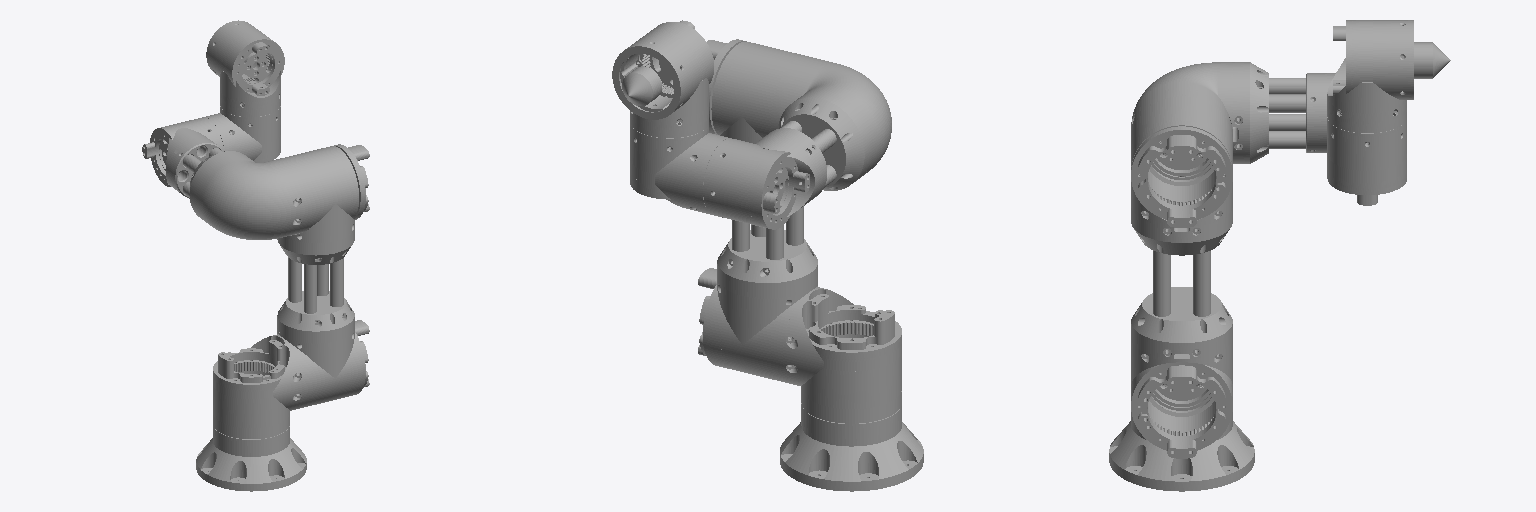
robot.urdf — URDF:
<?xml version="1.0" ?>
<!-- =================================================================================== -->
<!-- |    This document was autogenerated by xacro from robot.xacro                    | -->
<!-- |    EDITING THIS FILE BY HAND IS NOT RECOMMENDED                                 | -->
<!-- =================================================================================== -->
<robot name="URDF">
  <material name="silver">
    <color rgba="0.700 0.700 0.700 1.000"/>
  </material>
  <transmission name="Revolute 1_tran">
    <type>transmission_interface/SimpleTransmission</type>
    <joint name="Revolute 1">
      <hardwareInterface>hardware_interface/EffortJointInterface</hardwareInterface>
    </joint>
    <actuator name="Revolute 1_actr">
      <hardwareInterface>hardware_interface/EffortJointInterface</hardwareInterface>
      <mechanicalReduction>1</mechanicalReduction>
    </actuator>
  </transmission>
  <transmission name="Revolute 2_tran">
    <type>transmission_interface/SimpleTransmission</type>
    <joint name="Revolute 2">
      <hardwareInterface>hardware_interface/EffortJointInterface</hardwareInterface>
    </joint>
    <actuator name="Revolute 2_actr">
      <hardwareInterface>hardware_interface/EffortJointInterface</hardwareInterface>
      <mechanicalReduction>1</mechanicalReduction>
    </actuator>
  </transmission>
  <transmission name="Revolute 3_tran">
    <type>transmission_interface/SimpleTransmission</type>
    <joint name="Revolute 3">
      <hardwareInterface>hardware_interface/EffortJointInterface</hardwareInterface>
    </joint>
    <actuator name="Revolute 3_actr">
      <hardwareInterface>hardware_interface/EffortJointInterface</hardwareInterface>
      <mechanicalReduction>1</mechanicalReduction>
    </actuator>
  </transmission>
  <transmission name="Revolute 4_tran">
    <type>transmission_interface/SimpleTransmission</type>
    <joint name="Revolute 4">
      <hardwareInterface>hardware_interface/EffortJointInterface</hardwareInterface>
    </joint>
    <actuator name="Revolute 4_actr">
      <hardwareInterface>hardware_interface/EffortJointInterface</hardwareInterface>
      <mechanicalReduction>1</mechanicalReduction>
    </actuator>
  </transmission>
  <transmission name="Revolute 5_tran">
    <type>transmission_interface/SimpleTransmission</type>
    <joint name="Revolute 5">
      <hardwareInterface>hardware_interface/EffortJointInterface</hardwareInterface>
    </joint>
    <actuator name="Revolute 5_actr">
      <hardwareInterface>hardware_interface/EffortJointInterface</hardwareInterface>
      <mechanicalReduction>1</mechanicalReduction>
    </actuator>
  </transmission>
  <transmission name="Revolute 6_tran">
    <type>transmission_interface/SimpleTransmission</type>
    <joint name="Revolute 6">
      <hardwareInterface>hardware_interface/EffortJointInterface</hardwareInterface>
    </joint>
    <actuator name="Revolute 6_actr">
      <hardwareInterface>hardware_interface/EffortJointInterface</hardwareInterface>
      <mechanicalReduction>1</mechanicalReduction>
    </actuator>
  </transmission>
  <gazebo>
    <plugin filename="libgazebo_ros_control.so" name="control"/>
  </gazebo>
  <gazebo reference="base_link">
    <material>Gazebo/Silver</material>
    <mu1>0.2</mu1>
    <mu2>0.2</mu2>
    <selfCollide>true</selfCollide>
    <gravity>true</gravity>
  </gazebo>
  <gazebo reference="Link_0_1">
    <material>Gazebo/Silver</material>
    <mu1>0.2</mu1>
    <mu2>0.2</mu2>
    <selfCollide>true</selfCollide>
  </gazebo>
  <gazebo reference="Link_1_1">
    <material>Gazebo/Silver</material>
    <mu1>0.2</mu1>
    <mu2>0.2</mu2>
    <selfCollide>true</selfCollide>
  </gazebo>
  <gazebo reference="Link_2_1">
    <material>Gazebo/Silver</material>
    <mu1>0.2</mu1>
    <mu2>0.2</mu2>
    <selfCollide>true</selfCollide>
  </gazebo>
  <gazebo reference="Link_3_1">
    <material>Gazebo/Silver</material>
    <mu1>0.2</mu1>
    <mu2>0.2</mu2>
    <selfCollide>true</selfCollide>
  </gazebo>
  <gazebo reference="Link_4_1">
    <material>Gazebo/Silver</material>
    <mu1>0.2</mu1>
    <mu2>0.2</mu2>
    <selfCollide>true</selfCollide>
  </gazebo>
  <gazebo reference="Link_5_1">
    <material>Gazebo/Silver</material>
    <mu1>0.2</mu1>
    <mu2>0.2</mu2>
    <selfCollide>true</selfCollide>
  </gazebo>
  <!-- Root link with inertia (kept for dynamic purposes) -->
  <link name="base_link">
    <inertial>
      <origin rpy="0 0 0" xyz="5.500306683749839e-09 1.7690045296987684e-08 -0.04351821247312735"/>
      <mass value="9.665954367017239"/>
      <inertia ixx="0.029174" ixy="0.0" ixz="0.0" iyy="0.029174" iyz="0.0" izz="0.044786"/>
    </inertial>
    <visual>
      <origin rpy="0 0 0" xyz="0 0 0"/>
      <geometry>
        <mesh filename="package://arm_pkg/description/meshes/base_link.stl" scale="0.001 0.001 0.001"/>
      </geometry>
      <material name="silver"/>
    </visual>
    <collision>
      <origin rpy="0 0 0" xyz="0 0 0"/>
      <geometry>
        <mesh filename="package://arm_pkg/description/meshes/base_link.stl" scale="0.001 0.001 0.001"/>
      </geometry>
    </collision>
  </link>
  <!-- Dummy link to serve as new base for KDL -->
  <link name="dummy_base"/>
  <!-- Fixed joint between base_link and dummy_base (no need for joint states) -->
  <joint name="base_to_dummy" type="fixed">
    <origin rpy="0 0 0" xyz="0 0 0"/>
    <parent link="base_link"/>
    <child link="dummy_base"/>
  </joint>
  <!-- JOINT 1: Was "Revolute 1", now "joint1" -->
  <joint name="joint1" type="revolute">
    <origin rpy="0 0 0" xyz="0.0 0.0 0.01"/>
    <parent link="dummy_base"/>
    <child link="Link_0_1"/>
    <axis xyz="0.0 0.0 1.0"/>
    <limit effort="100" lower="-3.141593" upper="3.141593" velocity="100"/>
  </joint>
  <link name="Link_0_1">
    <inertial>
      <origin rpy="0 0 0" xyz="0.025147305768597313 3.714411619225575e-05 0.06827470074076418"/>
      <mass value="9.512665721240847"/>
      <inertia ixx="0.030352" ixy="9e-06" ixz="-0.004461" iyy="0.037217" iyz="-1.6e-05" izz="0.039916"/>
    </inertial>
    <visual>
      <origin rpy="0 0 0" xyz="0 0 -0.01"/>
      <geometry>
        <mesh filename="package://arm_pkg/description/meshes/Link_0_1.stl" scale="0.001 0.001 0.001"/>
      </geometry>
      <material name="silver"/>
    </visual>
    <collision>
      <origin rpy="0 0 0" xyz="0 0 -0.01"/>
      <geometry>
        <mesh filename="package://arm_pkg/description/meshes/Link_0_1.stl" scale="0.001 0.001 0.001"/>
      </geometry>
    </collision>
  </link>
  <!-- JOINT 2: Was "Revolute 2", now "joint2" -->
  <joint name="joint2" type="revolute">
    <origin rpy="0 0 0" xyz="0.0898 -0.0 0.085"/>
    <parent link="Link_0_1"/>
    <child link="Link_1_1"/>
    <axis xyz="-1.0 0.0 0.0"/>
    <limit effort="100" lower="-1.570796" upper="1.570796" velocity="100"/>
  </joint>
  <link name="Link_1_1">
    <inertial>
      <origin rpy="0 0 0" xyz="0.05116110784738716 -1.276329509484605e-09 0.17500000003731517"/>
      <mass value="25.335856608089017"/>
      <inertia ixx="0.54402" ixy="0.0" ixz="0.0003" iyy="0.534675" iyz="0.000331" izz="0.07227"/>
    </inertial>
    <visual>
      <origin rpy="0 0 0" xyz="-0.0898 0 -0.095"/>
      <geometry>
        <mesh filename="package://arm_pkg/description/meshes/Link_1_1.stl" scale="0.001 0.001 0.001"/>
      </geometry>
      <material name="silver"/>
    </visual>
    <collision>
      <origin rpy="0 0 0" xyz="-0.0898 0 -0.095"/>
      <geometry>
        <mesh filename="package://arm_pkg/description/meshes/Link_1_1.stl" scale="0.001 0.001 0.001"/>
      </geometry>
    </collision>
  </link>
  <!-- JOINT 3: Was "Revolute 3", now "joint3" -->
  <joint name="joint3" type="revolute">
    <origin rpy="0 0 0" xyz="0.0 0.0 0.35"/>
    <parent link="Link_1_1"/>
    <child link="Link_2_1"/>
    <axis xyz="-1.0 0.0 0.0"/>
    <limit effort="100" lower="-3.141593" upper="1.047198" velocity="100"/>
  </joint>
  <link name="Link_2_1">
    <inertial>
      <origin rpy="0 0 0" xyz="-0.07858780325051475 0.07482766866821508 -0.00012906577646332185"/>
      <mass value="27.641428291972183"/>
      <inertia ixx="0.291742" ixy="0.015471" ixz="6.9e-05" iyy="0.075237" iyz="0.000231" izz="0.302588"/>
    </inertial>
    <visual>
      <origin rpy="0 0 0" xyz="-0.0898 -0.0 -0.445"/>
      <geometry>
        <mesh filename="package://arm_pkg/description/meshes/Link_2_1.stl" scale="0.001 0.001 0.001"/>
      </geometry>
      <material name="silver"/>
    </visual>
    <collision>
      <origin rpy="0 0 0" xyz="-0.0898 -0.0 -0.445"/>
      <geometry>
        <mesh filename="package://arm_pkg/description/meshes/Link_2_1.stl" scale="0.001 0.001 0.001"/>
      </geometry>
    </collision>
  </link>
  <!-- JOINT 4: Was "Revolute 4", now "joint4" -->
  <joint name="joint4" type="revolute">
    <origin rpy="0 0 0" xyz="-0.0148 0.255 0.0"/>
    <parent link="Link_2_1"/>
    <child link="Link_3_1"/>
    <axis xyz="1.0 0.0 0.0"/>
    <limit effort="100" lower="-4.014257" upper="0.785398" velocity="100"/>
  </joint>
  <link name="Link_3_1">
    <inertial>
      <origin rpy="0 0 0" xyz="0.05280646080955524 -0.00014958827631367244 0.014397391676137572"/>
      <mass value="5.7113026691342785"/>
      <inertia ixx="0.012888" ixy="1.2e-05" ixz="-0.001515" iyy="0.015126" iyz="7.1e-05" izz="0.014242"/>
    </inertial>
    <visual>
      <origin rpy="0 0 0" xyz="-0.075 -0.255 -0.445"/>
      <geometry>
        <mesh filename="package://arm_pkg/description/meshes/Link_3_1.stl" scale="0.001 0.001 0.001"/>
      </geometry>
      <material name="silver"/>
    </visual>
    <collision>
      <origin rpy="0 0 0" xyz="-0.075 -0.255 -0.445"/>
      <geometry>
        <mesh filename="package://arm_pkg/description/meshes/Link_3_1.stl" scale="0.001 0.001 0.001"/>
      </geometry>
    </collision>
  </link>
  <!-- JOINT 5: Was "Revolute 5", now "joint5" -->
  <joint name="joint5" type="revolute">
    <origin rpy="0 0 0" xyz="0.07 0.0 0.08"/>
    <parent link="Link_3_1"/>
    <child link="Link_4_1"/>
    <axis xyz="0.0 0.0 1.0"/>
    <limit effort="100" lower="-3.141593" upper="3.141593" velocity="100"/>
  </joint>
  <link name="Link_4_1">
    <inertial>
      <origin rpy="0 0 0" xyz="2.348099192109321e-05 0.004226979419264587 0.04977103581625053"/>
      <mass value="4.854306730672969"/>
      <inertia ixx="0.010705" ixy="3e-06" ixz="-5e-06" iyy="0.012385" iyz="-0.000517" izz="0.008722"/>
    </inertial>
    <visual>
      <origin rpy="0 0 0" xyz="-0.145 -0.255 -0.525"/>
      <geometry>
        <mesh filename="package://arm_pkg/description/meshes/Link_4_1.stl" scale="0.001 0.001 0.001"/>
      </geometry>
      <material name="silver"/>
    </visual>
    <collision>
      <origin rpy="0 0 0" xyz="-0.145 -0.255 -0.525"/>
      <geometry>
        <mesh filename="package://arm_pkg/description/meshes/Link_4_1.stl" scale="0.001 0.001 0.001"/>
      </geometry>
    </collision>
  </link>
  <!-- JOINT 6: Was "Revolute 6", now "joint6" (type continuous is fine) -->
  <joint name="joint6" type="continuous">
    <origin rpy="0 0 0" xyz="0.0 0.0645 0.07"/>
    <parent link="Link_4_1"/>
    <child link="Link_5_1"/>
    <axis xyz="0.0 -1.0 0.0"/>
  </joint>
  <link name="Link_5_1">
    <inertial>
      <origin rpy="0 0 0" xyz="2.1371793224034263e-15 0.017187500000006017 -3.774758283725532e-14"/>
      <mass value="0.5137812985573593"/>
      <inertia ixx="0.000129" ixy="0.0" ixz="0.0" iyy="0.000145" iyz="0.0" izz="0.000129"/>
    </inertial>
    <visual>
      <origin rpy="0 0 0" xyz="-0.145 -0.3195 -0.595"/>
      <geometry>
        <mesh filename="package://arm_pkg/description/meshes/Link_5_1.stl" scale="0.001 0.001 0.001"/>
      </geometry>
      <material name="silver"/>
    </visual>
    <collision>
      <origin rpy="0 0 0" xyz="-0.145 -0.3195 -0.595"/>
      <geometry>
        <mesh filename="package://arm_pkg/description/meshes/Link_5_1.stl" scale="0.001 0.001 0.001"/>
      </geometry>
    </collision>
  </link>
</robot>

--- What the picture shows (computed from the rendered views, not written in the file) ---
Views: 3 orthographic renders of the robot side by side, from view 1: azimuth 30°, elevation 25°; view 2: azimuth 150°, elevation 25°; view 3: azimuth 270°, elevation 25°.
Model URDF with 8 links and 7 joints (5 revolute, 1 continuous, 1 fixed), rooted at base_link, posed every joint at zero.
Links seen in each view (by area): view 1: Link_1_1, Link_2_1, Link_0_1, Link_4_1, base_link, Link_3_1; view 2: Link_2_1, Link_1_1, Link_0_1, base_link, Link_4_1, Link_3_1, Link_5_1; view 3: Link_1_1, Link_2_1, Link_4_1, base_link, Link_3_1, Link_5_1, Link_0_1.
Link boxes in pixels (bbox=[...]): Link_1_1: bbox=[277, 144, 369, 406]; Link_2_1: bbox=[142, 115, 313, 239]; Link_0_1: bbox=[213, 334, 313, 438]; Link_4_1: bbox=[206, 20, 284, 109]; base_link: bbox=[196, 426, 306, 491]; Link_3_1: bbox=[213, 99, 280, 162]; Link_2_1: bbox=[694, 56, 891, 229]; Link_1_1: bbox=[698, 39, 817, 381]; Link_0_1: bbox=[771, 287, 901, 423]; base_link: bbox=[780, 403, 923, 491]; Link_4_1: bbox=[612, 20, 713, 127]; Link_3_1: bbox=[630, 114, 719, 212]; Link_5_1: bbox=[622, 66, 661, 105]; Link_1_1: bbox=[1131, 96, 1232, 458]; Link_2_1: bbox=[1131, 62, 1335, 169]; Link_4_1: bbox=[1327, 20, 1413, 123]; base_link: bbox=[1109, 412, 1254, 491]; Link_3_1: bbox=[1327, 103, 1406, 205]; Link_5_1: bbox=[1414, 42, 1450, 78]; Link_0_1: bbox=[1157, 287, 1206, 400].
Size in the robot's own frame: 0.335 by 0.4695 by 0.73 metres.
7 mesh visuals loaded from 7 distinct referenced files (7 binary STL).